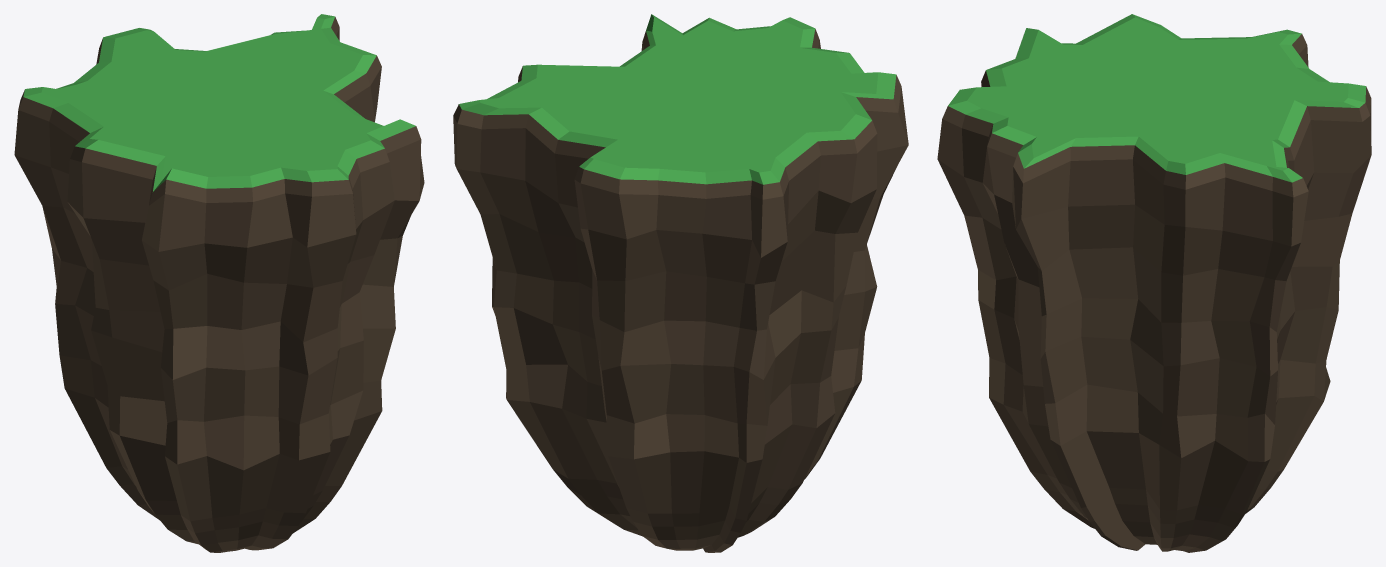
The model's file is Cliff5.fbx.
The picture shows the model from 3 angles, left to right: view 1: azimuth 30°, elevation 25°; view 2: azimuth 150°, elevation 25°; view 3: azimuth 270°, elevation 25°; orthographic projection.
Visible parts, largest first — view 1: Cliff2.002; view 2: Cliff2.002; view 3: Cliff2.002.
Part boxes in pixels (bbox=[...]): Cliff2.002: bbox=[14, 14, 424, 552]; Cliff2.002: bbox=[453, 14, 908, 552]; Cliff2.002: bbox=[937, 14, 1371, 552].
Bounding box in the file's own units: 837 × 1050 × 920.
